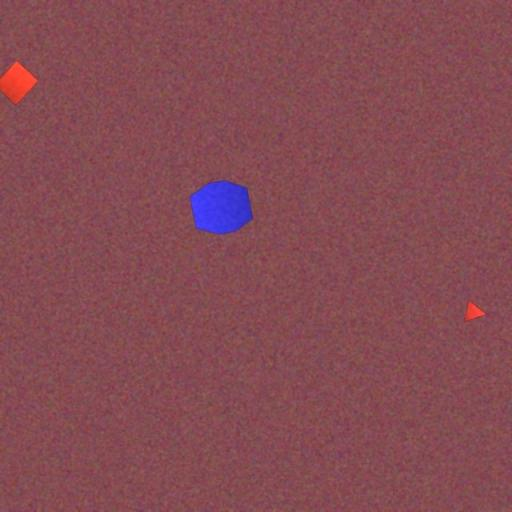RED_SQUARE: (0, 59, 39, 106)
